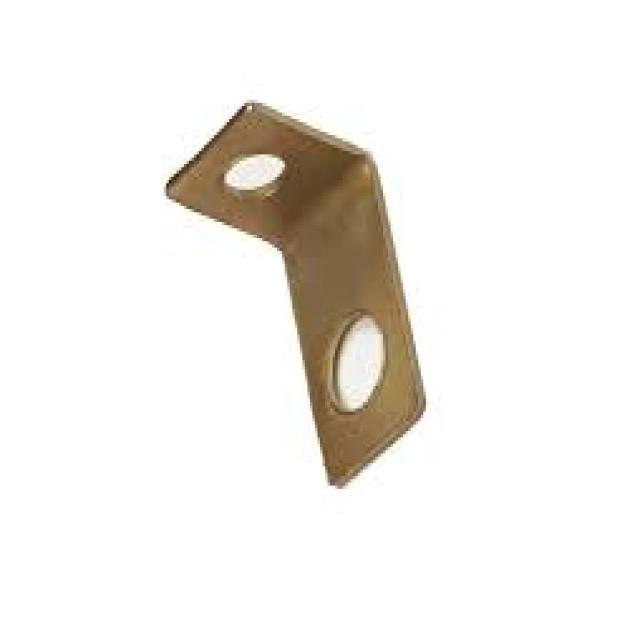holes: (328, 309, 386, 412), (222, 151, 285, 199)
